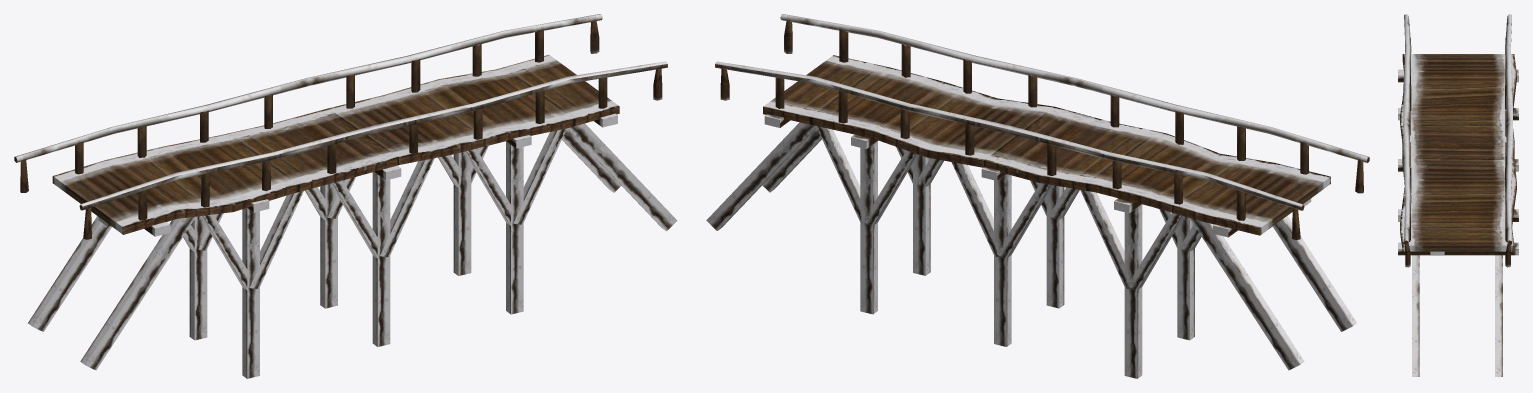
3 views of the same model, side by side, from view 1: azimuth 30°, elevation 25°; view 2: azimuth 150°, elevation 25°; view 3: azimuth 270°, elevation 25° (orthographic). The views are drawn at different scales.
Parts seen in each view (by area): view 1: Sphere01; view 2: Sphere01; view 3: Sphere01.
Part boxes in pixels (x1=…): Sphere01: x1=14, y1=14, x2=677, y2=378; Sphere01: x1=706, y1=14, x2=1369, y2=378; Sphere01: x1=1398, y1=14, x2=1518, y2=376.
Bounding box in the file's own units: 23.79 × 8.56 × 5.24.
1 material, 1 textured.
